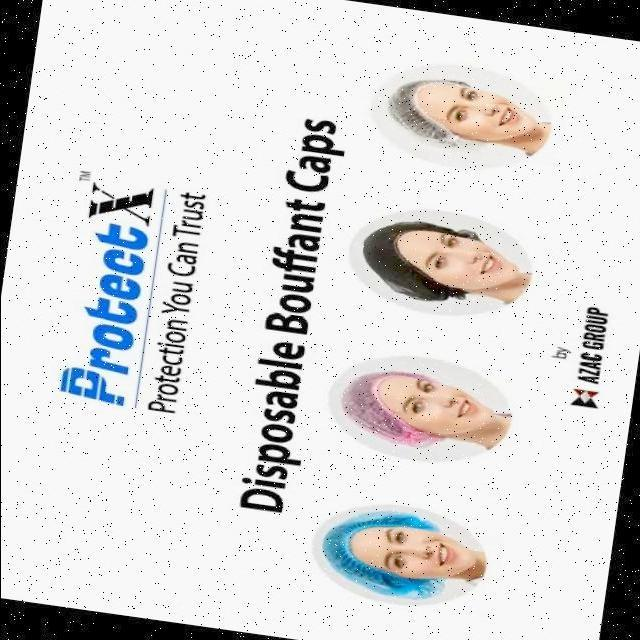no_hairnet: (468, 96, 522, 142), (431, 386, 483, 429), (444, 244, 508, 278), (410, 541, 456, 580), (445, 271, 447, 275)
